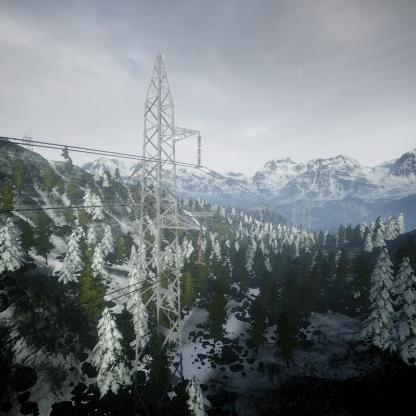tower: (123, 49, 205, 390)
